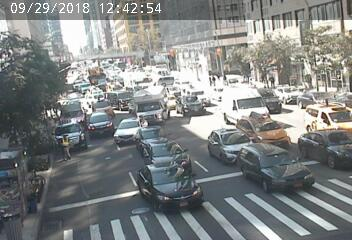car: (241, 148, 307, 186), (136, 165, 200, 200), (223, 86, 270, 122), (301, 99, 352, 131), (306, 130, 350, 165), (246, 117, 289, 146), (136, 87, 163, 116), (209, 131, 250, 150), (175, 95, 207, 118), (60, 121, 90, 145), (263, 89, 293, 112), (147, 143, 187, 160), (112, 119, 144, 138), (87, 113, 112, 132), (138, 127, 170, 140), (63, 101, 86, 119), (108, 88, 135, 103), (89, 97, 114, 113), (184, 80, 204, 92), (156, 75, 177, 85), (82, 82, 89, 91), (74, 83, 79, 87)
